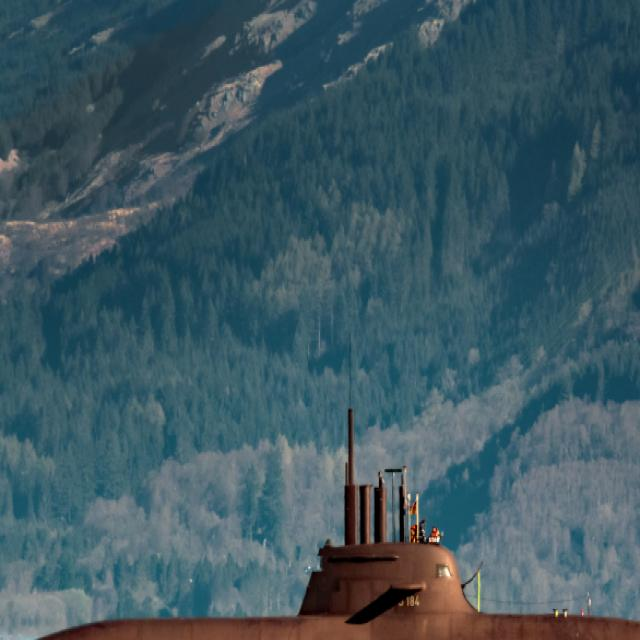submarine: (1, 325, 640, 640)
